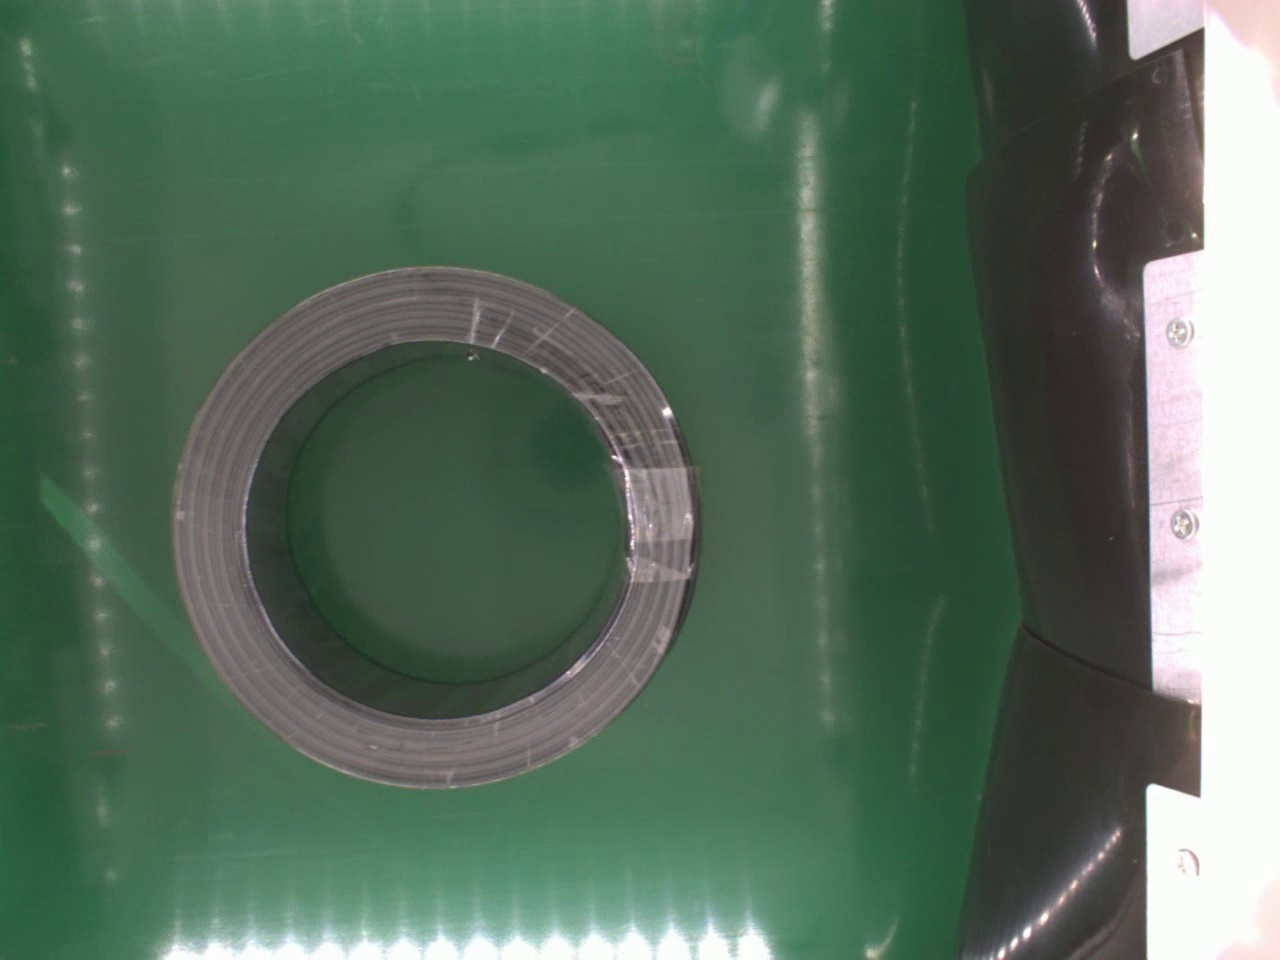black: (165, 258, 707, 799)
